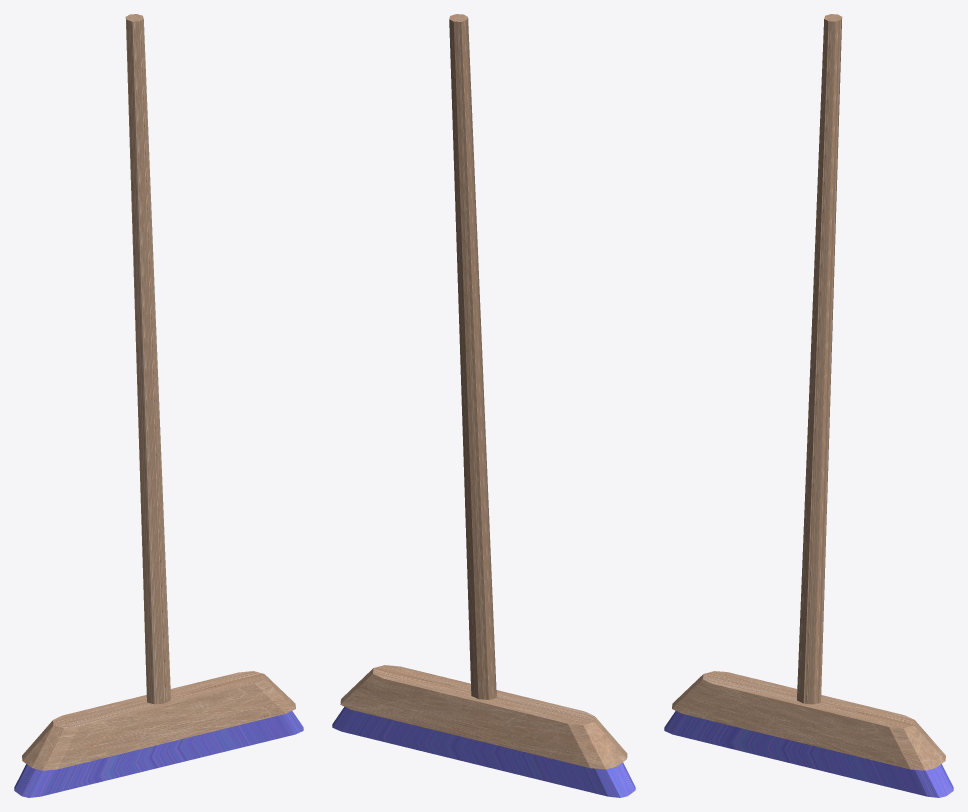
File: Mop.fbx
3 views of the same model, side by side, from view 1: azimuth 30°, elevation 25°; view 2: azimuth 150°, elevation 25°; view 3: azimuth 330°, elevation 25° (orthographic). The views are drawn at different scales.
Parts seen in each view (by area): view 1: Mop; view 2: Mop; view 3: Mop.
Boxes of the visible parts, bbox=[...] form: Mop: bbox=[14, 14, 303, 797]; Mop: bbox=[332, 14, 635, 797]; Mop: bbox=[664, 14, 953, 797].
Size of the model in its own units: 180 by 440 by 45.84.
Materials: 2 (2 with a texture image).
